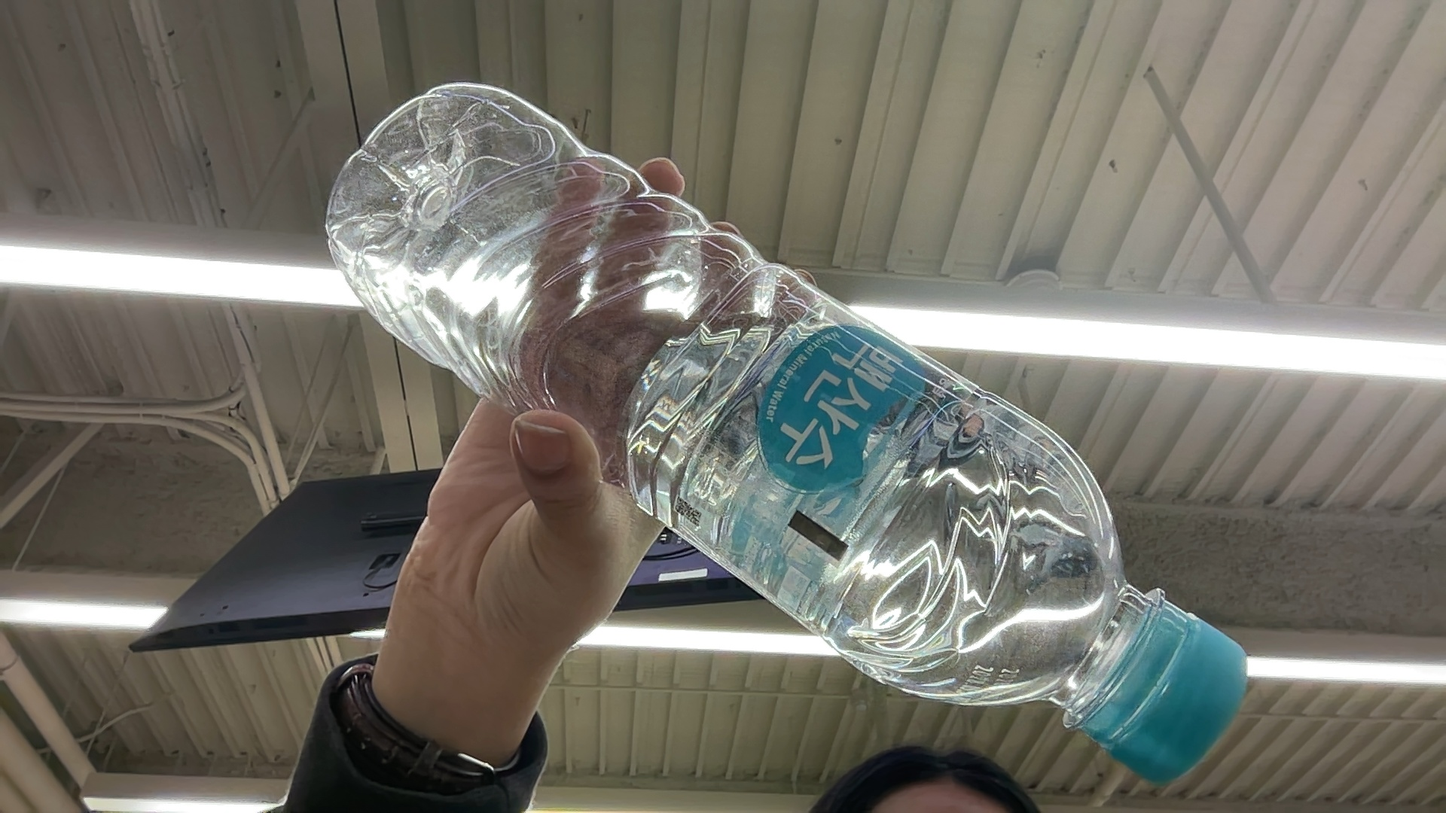Plastic: (308, 79, 1208, 783)
